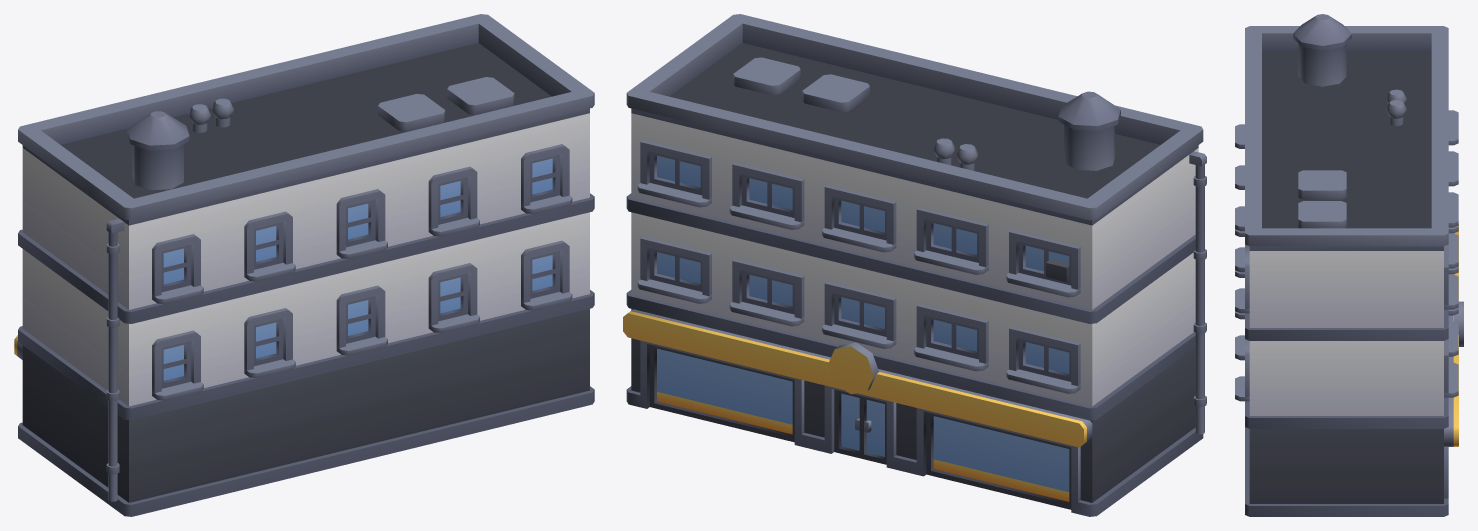
Rendered from building-k.glb.
3 renders of one model, left to right at view 1: azimuth 30°, elevation 25°; view 2: azimuth 150°, elevation 25°; view 3: azimuth 270°, elevation 25°, orthographic. The views are drawn at different scales.
Parts seen in each view (by area): view 1: building-k; view 2: building-k; view 3: building-k.
Boxes of the visible parts, x1,y1,x2,y2 form: building-k: (14, 14, 594, 516); building-k: (623, 14, 1206, 516); building-k: (1235, 14, 1463, 516).
Size of the model in its own units: 2.08 by 1.47 by 0.942.
1 material, 1 textured.
